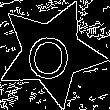O_N: (26, 25, 77, 81)
